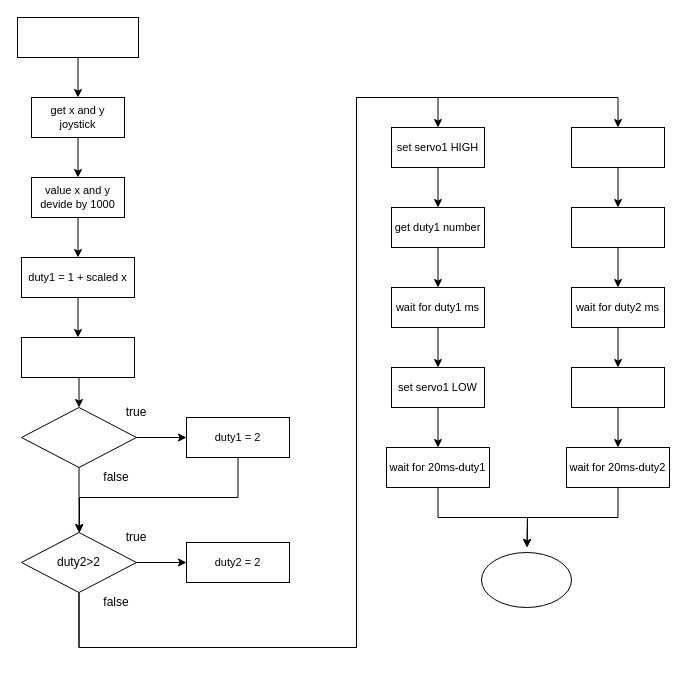
The diagram is 687 pixels wide and 673 high, and some of its shapes have lost their labels. Each missing label, with the box of its shape:
duty1>2: (20, 406, 136, 468)
duty2 = 1 + scaled y: (20, 336, 134, 378)
end: (480, 552, 572, 608)
get duty2 number: (570, 206, 664, 248)
repeats every 20ms: (16, 16, 138, 58)
set servo2 HIGH: (570, 126, 664, 168)
set servo2 LOW: (570, 366, 664, 408)
